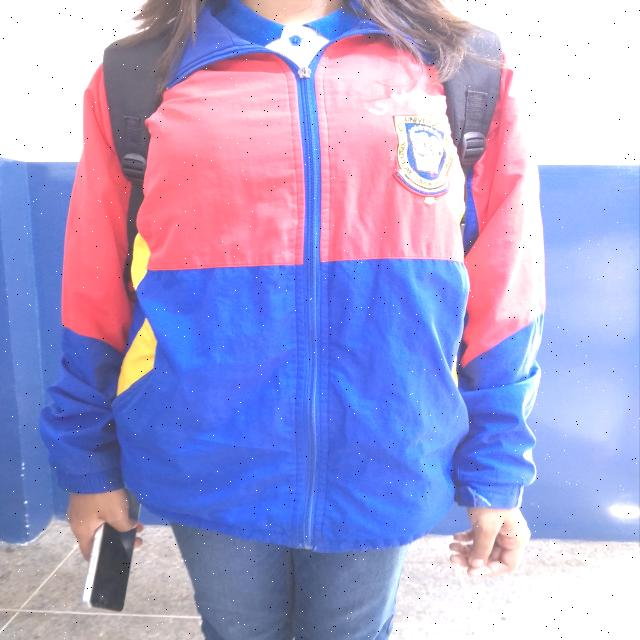chaqueta_unefa: (33, 0, 545, 555)
